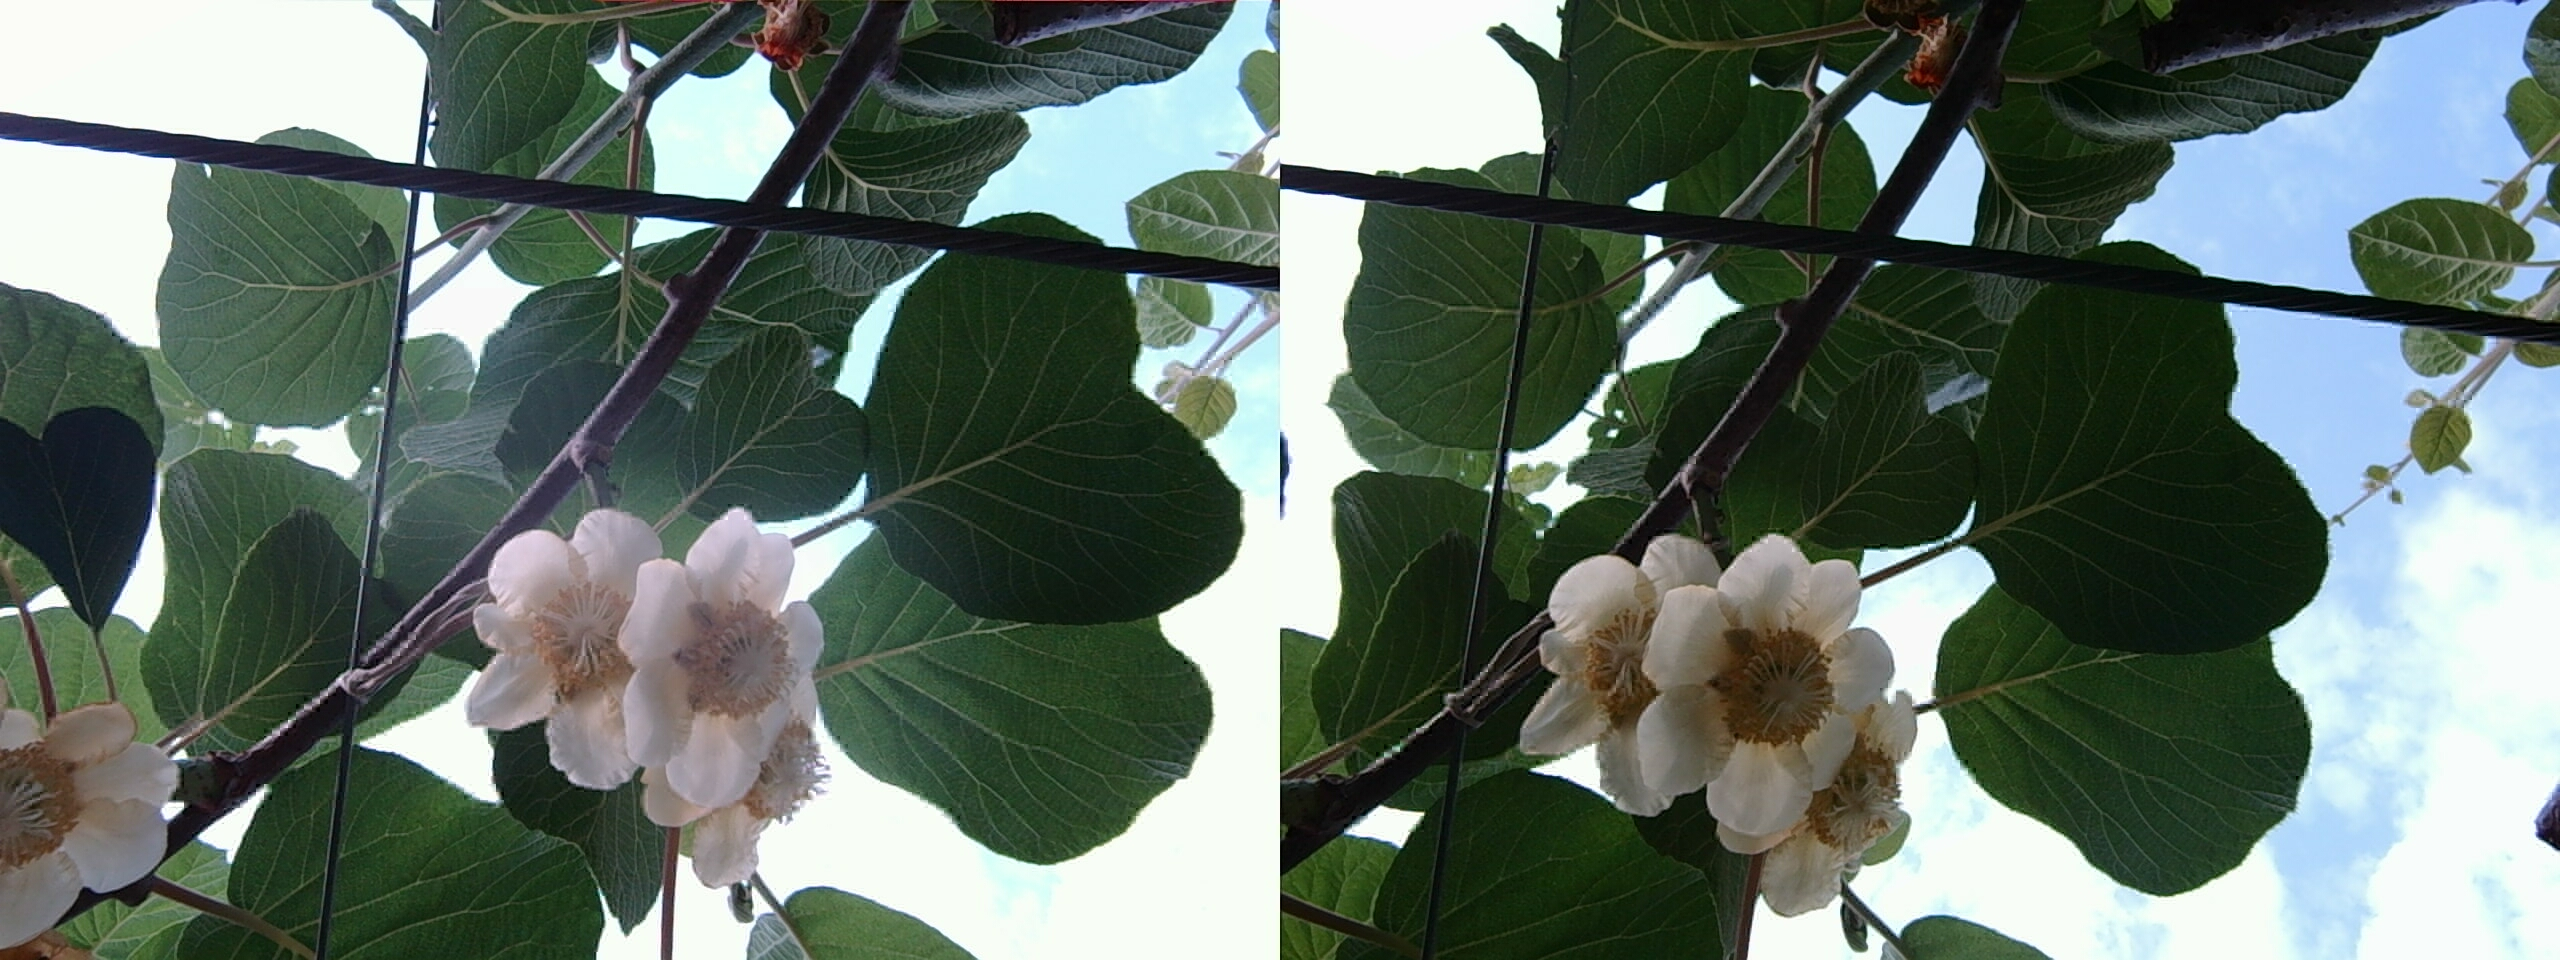flower: (1638, 536, 1894, 829), (611, 495, 821, 839), (467, 506, 658, 767), (1528, 542, 1703, 782), (2, 692, 168, 918), (1742, 712, 1910, 900)
